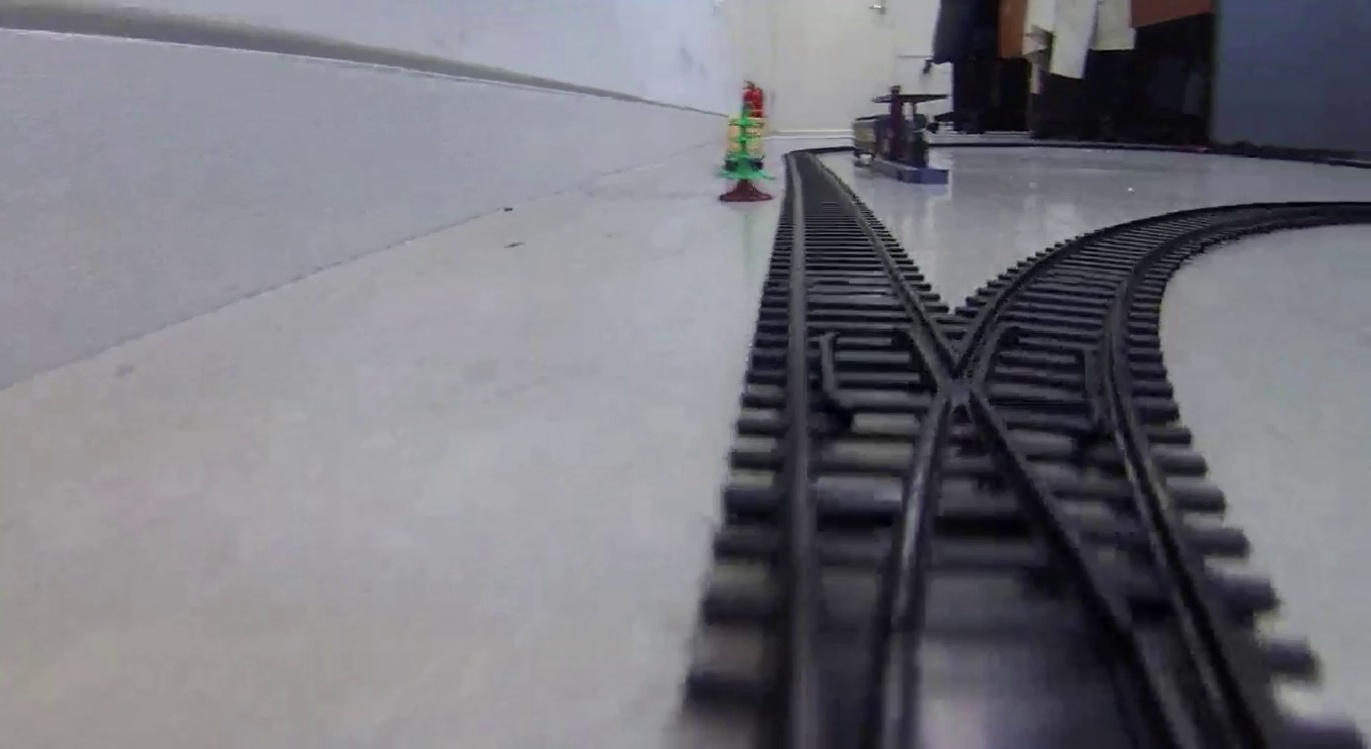tree: (718, 106, 775, 205)
